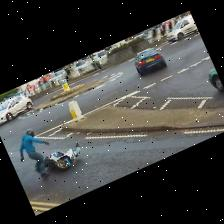person: (19, 129, 48, 178)
